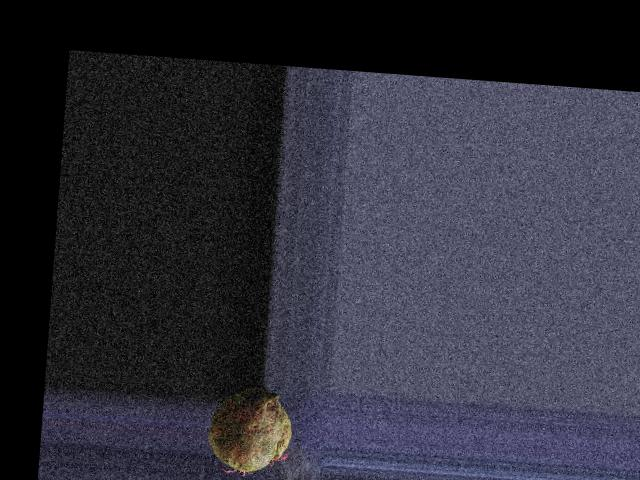beet: (206, 384, 294, 478)
